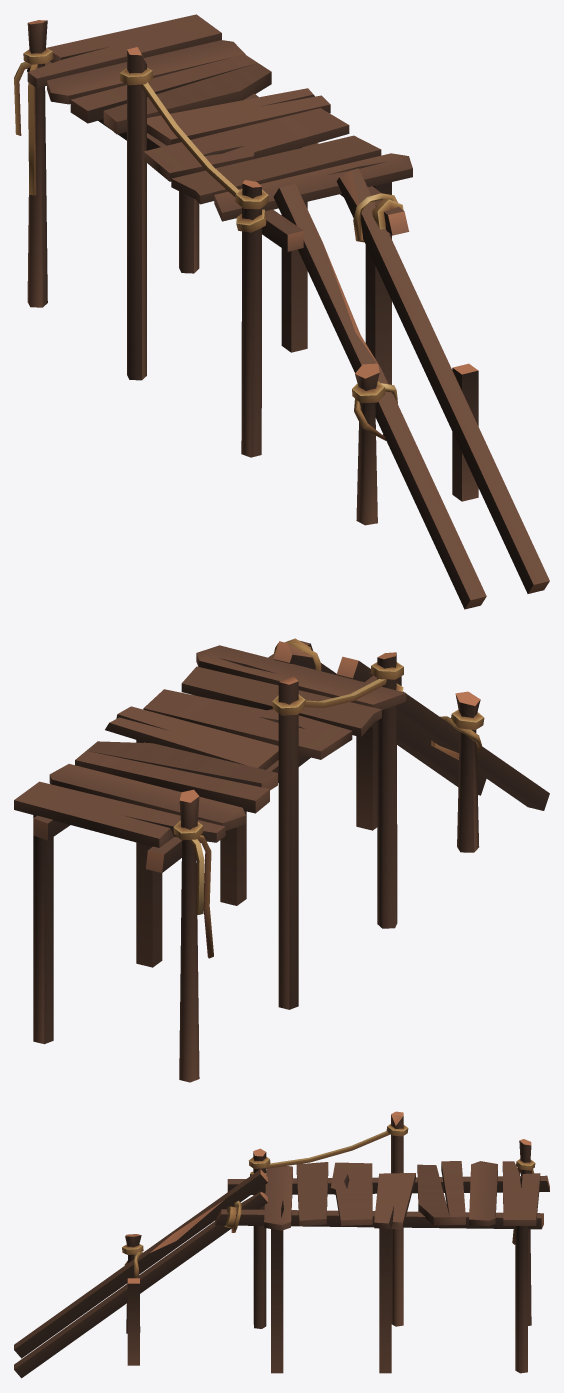
The model's file is Pier_1B.fbx.
3 renders of one model, top to bottom at view 1: azimuth 30°, elevation 25°; view 2: azimuth 150°, elevation 25°; view 3: azimuth 270°, elevation 25°, orthographic. The views are drawn at different scales.
Parts seen in each view (by area): view 1: Pier_1B; view 2: Pier_1B; view 3: Pier_1B.
Part boxes in pixels (x1,y1,x2,y2): Pier_1B: (14, 14, 549, 609); Pier_1B: (14, 638, 549, 1082); Pier_1B: (14, 1111, 549, 1378).
Size of the model in its own units: 2.19 by 3.64 by 7.75.
